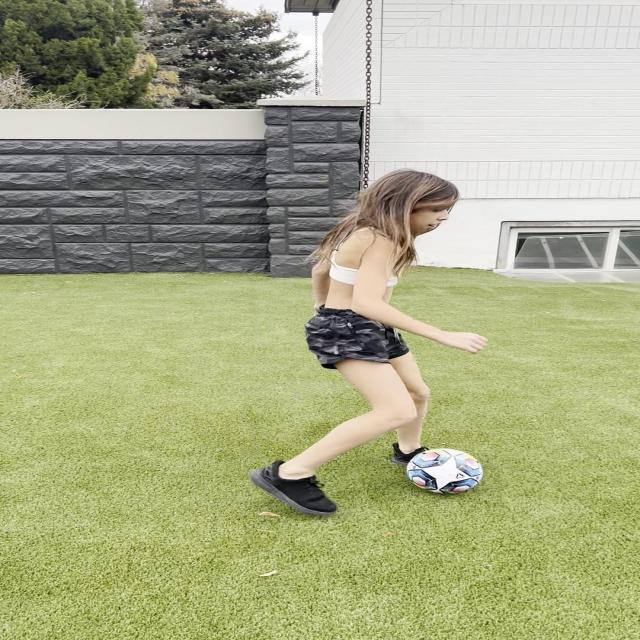Soccer Ball: (407, 448, 484, 494)
